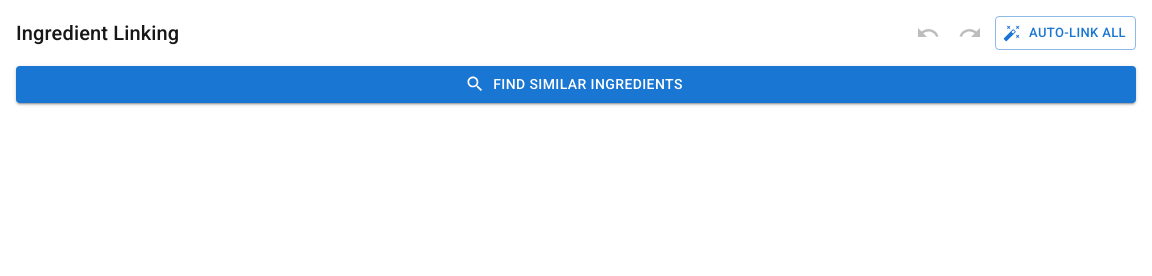
Test case: LinkingPanel › should handle linking ingredients
First find candidates
Click the button "Find Similar Ingredients".
click(576, 84)  # box top-left (16, 66), bottom-right (1136, 102)
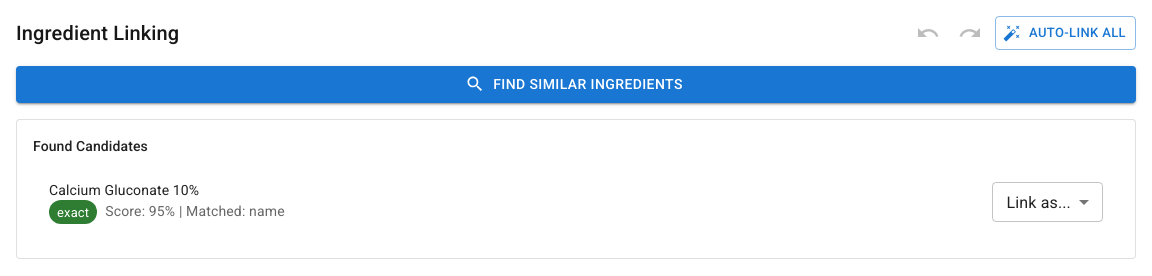
Expected: the heading "Found Candidates" is shown, top-left (33, 138), bottom-right (148, 154)
